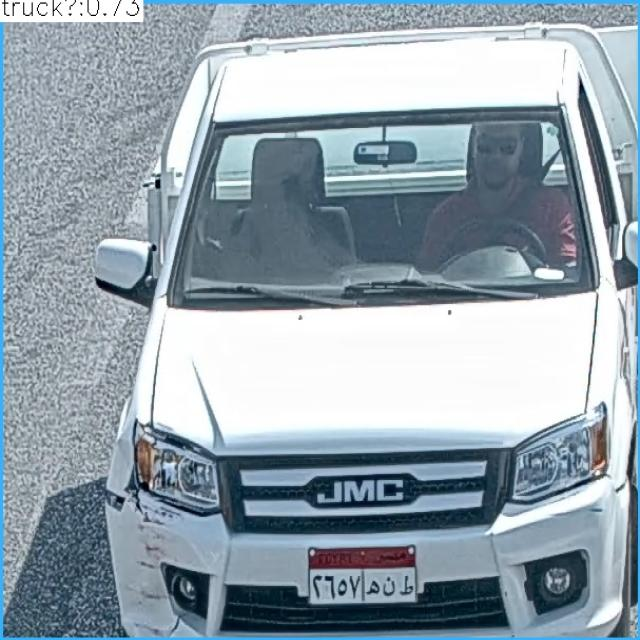windshield: (171, 121, 584, 309)
